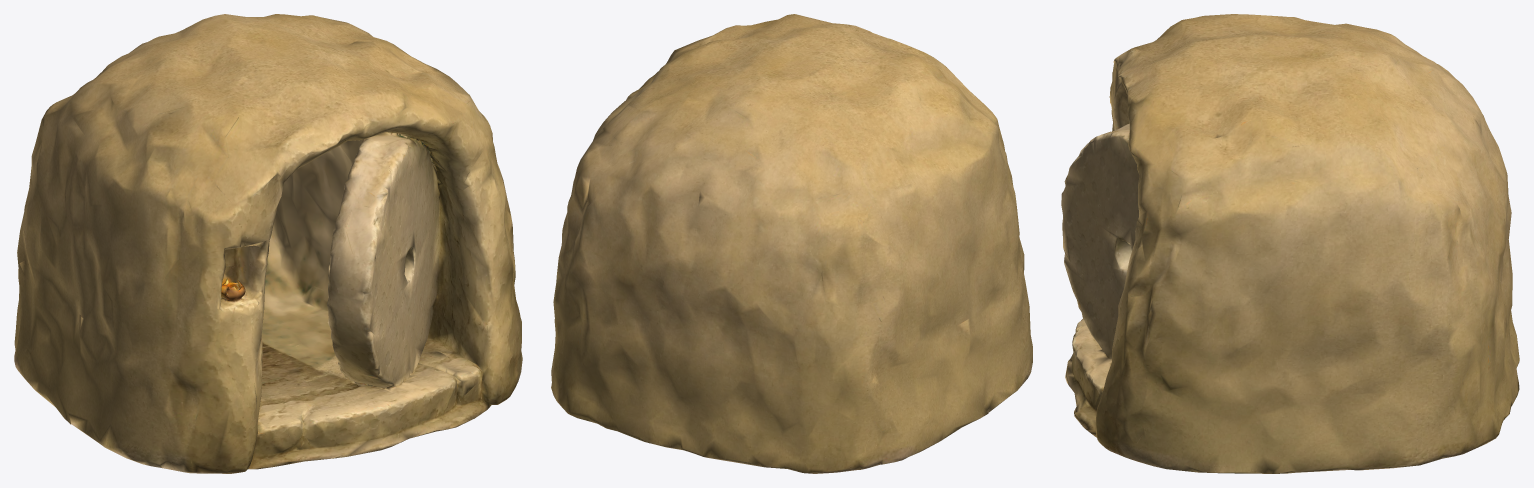
File: city_nevsehir_underground_stone_door.glb
The picture shows the model from 3 angles, left to right: view 1: azimuth 30°, elevation 25°; view 2: azimuth 150°, elevation 25°; view 3: azimuth 270°, elevation 25°; orthographic projection. The views are drawn at different scales.
Parts seen in each view (by area): view 1: Mesh1.0; view 2: Mesh1.0; view 3: Mesh1.0.
Boxes of the visible parts, box(x1,y1,x2,y2) form: Mesh1.0: box(14, 14, 522, 473); Mesh1.0: box(551, 14, 1032, 473); Mesh1.0: box(1061, 14, 1519, 473).
Bounding box in the file's own units: 6.5 × 5 × 6.36.
1 material, 1 textured.
